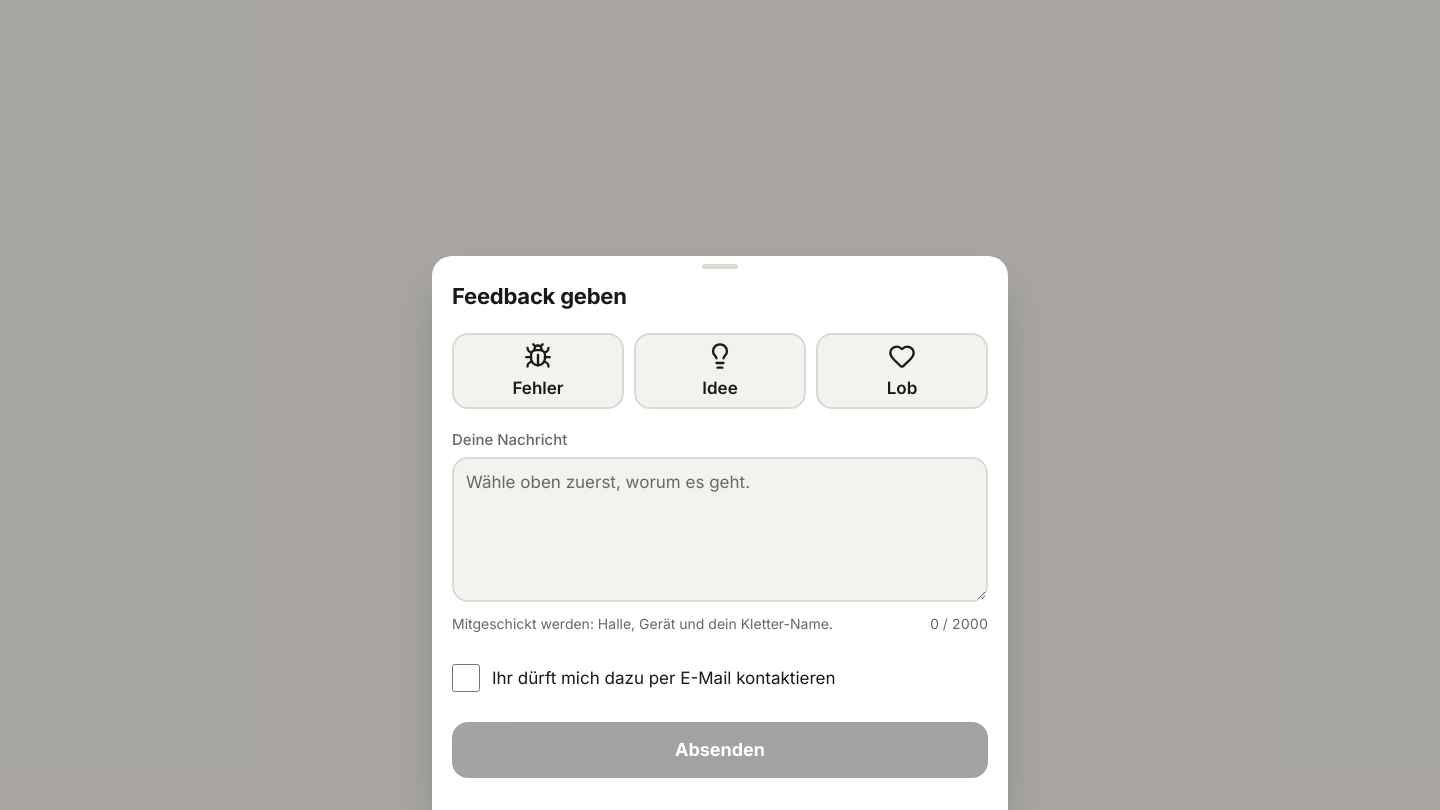
Test case: SPEC-026 FeedbackSheet › zeigt drei Kacheln ohne Vorauswahl; Absenden erst bei gültiger Eingabe (AC-2, AC-4)
Check: the button with test id "feedback-submit" is disabled, box [452,722,988,778]
Type "Die Karte ist super" into the text box with test id "feedback-message" at (720, 529), box [452,457,988,602]
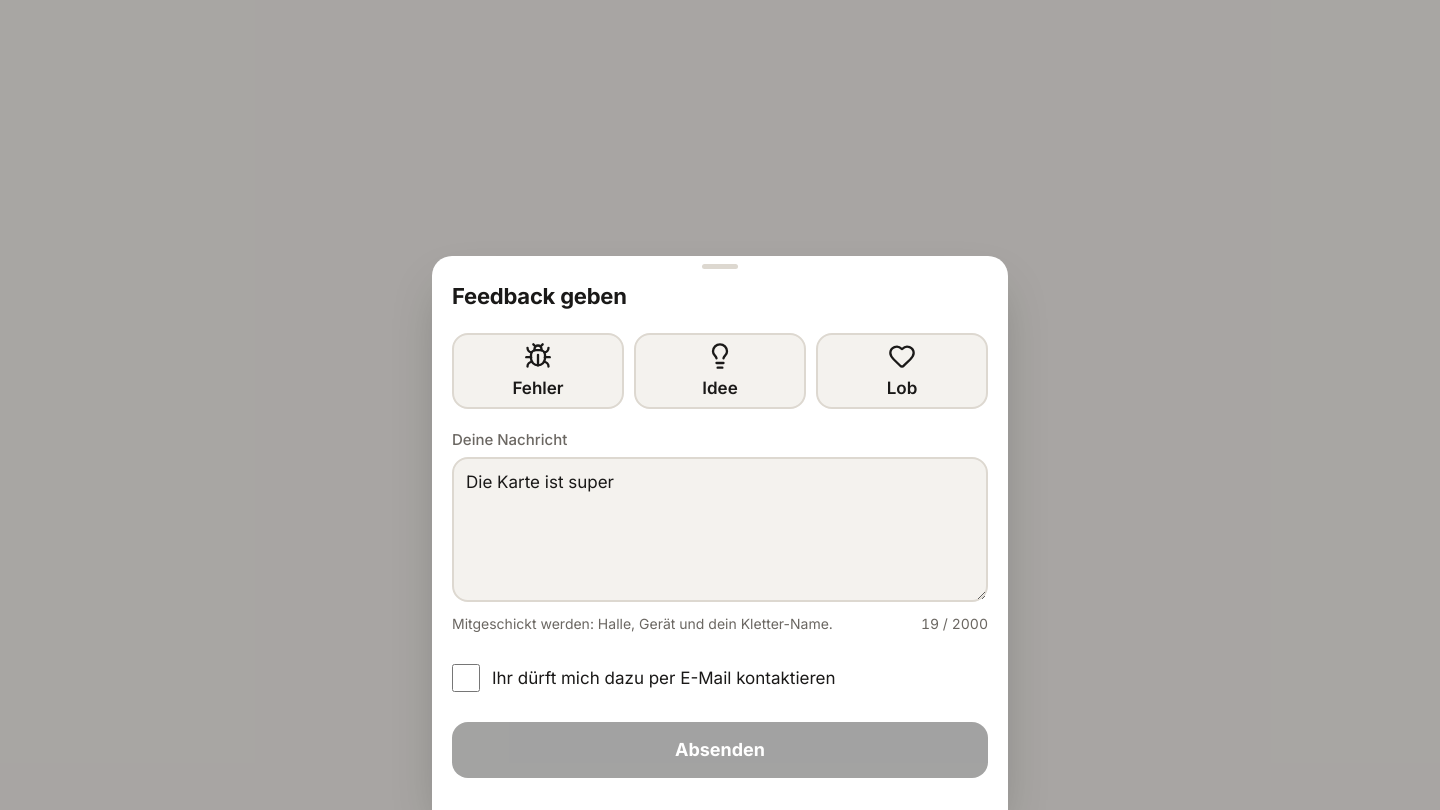
Check: the button with test id "feedback-submit" is disabled, box [452,722,988,778]
Click the radio button with test id "feedback-category-praise" at (902, 371), box [816,333,988,409]
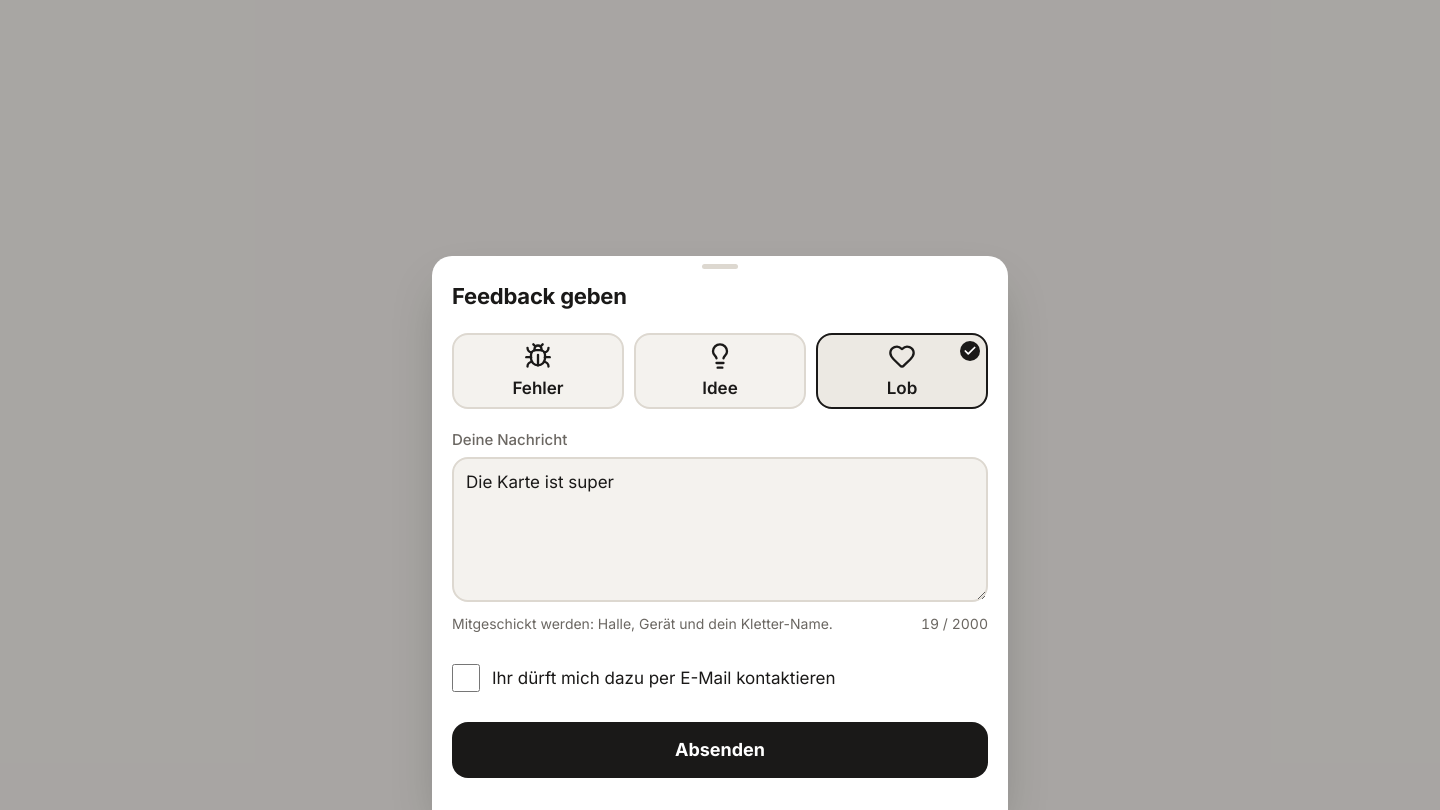
Check: the button with test id "feedback-submit" is enabled, box [452,722,988,778]
Replace the text in the text box with test id "feedback-message" with "abc" at (720, 529), box [452,457,988,602]
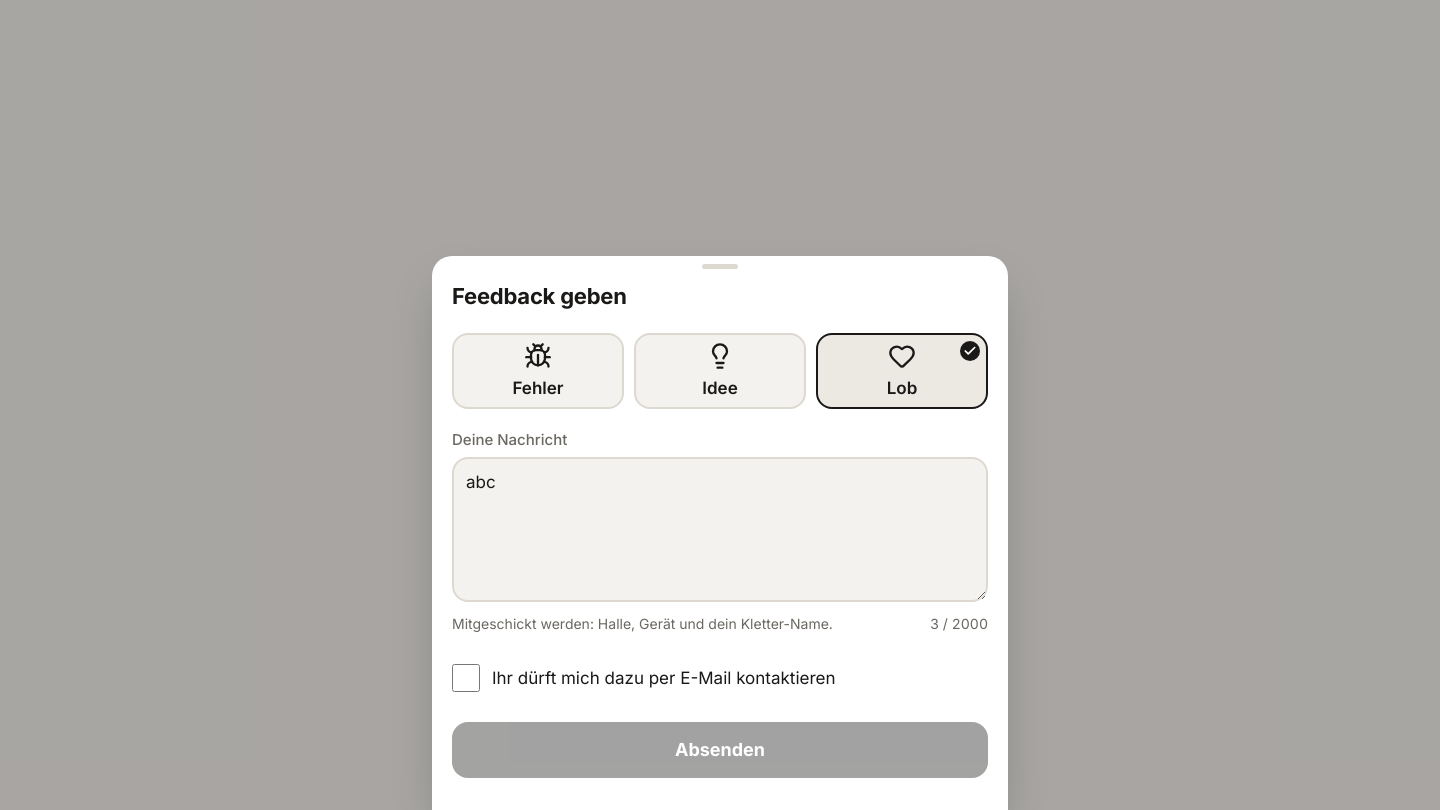
Check: the button with test id "feedback-submit" is disabled, box [452,722,988,778]
